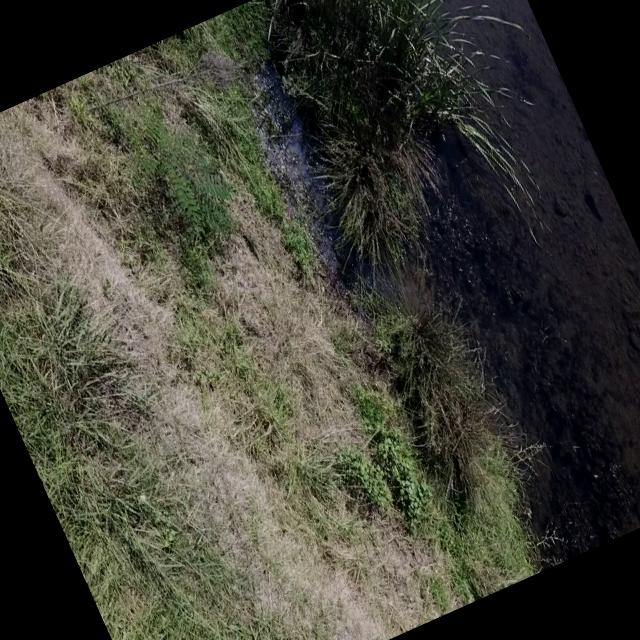Mysore-Thorn-Weed: (126, 104, 251, 256)
